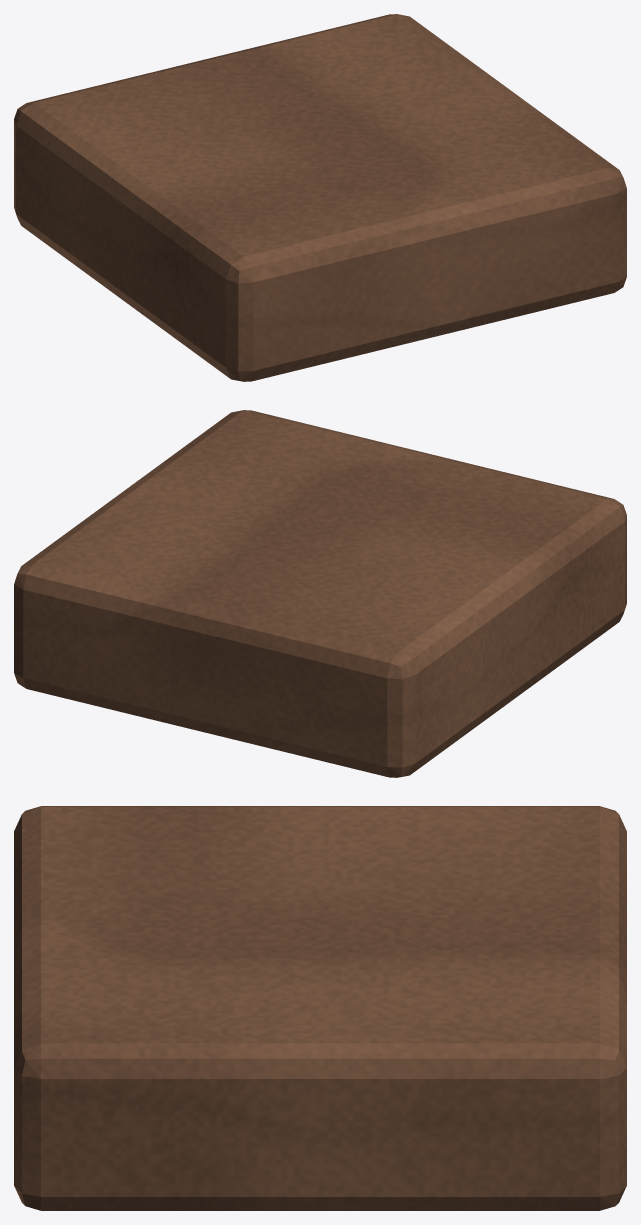
Rendered from RightFoot.fbx.
3 renders of one model, top to bottom at view 1: azimuth 30°, elevation 25°; view 2: azimuth 150°, elevation 25°; view 3: azimuth 270°, elevation 25°, orthographic. The views are drawn at different scales.
Parts seen in each view (by area): view 1: RightFoot; view 2: RightFoot; view 3: RightFoot.
Part boxes in pixels (x1,y1,x2,y2): RightFoot: (14,14,626,381); RightFoot: (14,410,626,777); RightFoot: (14,806,626,1210).
Size of the model in its own units: 1 by 0.3 by 1.
1 material, 1 textured.
